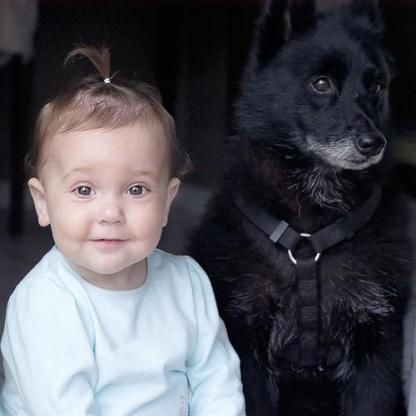schipperke: (193, 0, 413, 413)
